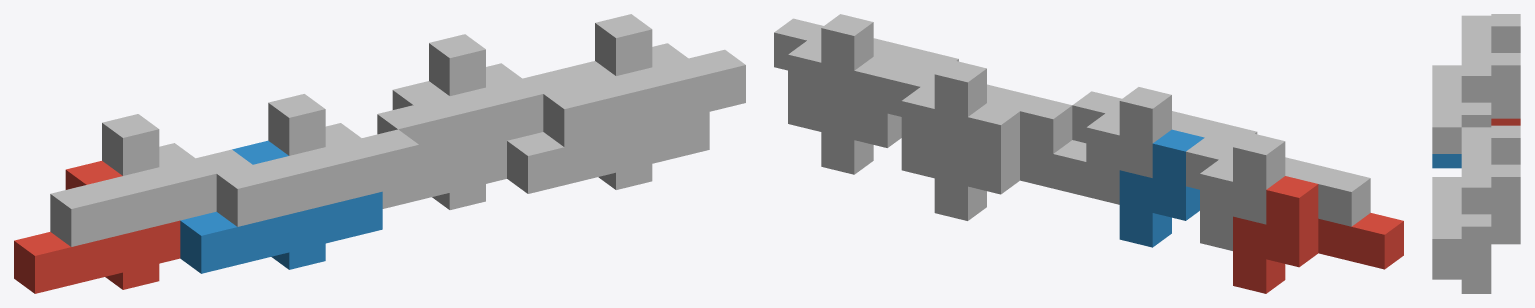
Rendered from tiling.obj.
The picture shows the model from 3 angles, left to right: view 1: azimuth 30°, elevation 25°; view 2: azimuth 150°, elevation 25°; view 3: azimuth 270°, elevation 25°; orthographic projection. The views are drawn at different scales.
Parts seen in each view (by area): view 1: copy_1_domain_4, copy_1_domain_8, copy_1_domain_3, copy_1_domain_7, copy_1_domain_2, copy_1_domain_6, copy_1_domain_1, copy_1_domain_5; view 2: copy_1_domain_7, copy_1_domain_3, copy_1_domain_1, copy_1_domain_5, copy_1_domain_8, copy_1_domain_4, copy_1_domain_2, copy_1_domain_6; view 3: copy_1_domain_8, copy_1_domain_7, copy_1_domain_3, copy_1_domain_4, copy_1_domain_6, copy_1_domain_2, copy_1_domain_5, copy_1_domain_1.
Boxes of the visible parts, box(x1,y1,x2,y2) form: copy_1_domain_4: box(216, 94, 418, 226); copy_1_domain_8: box(543, 14, 745, 147); copy_1_domain_3: box(50, 114, 252, 246); copy_1_domain_7: box(377, 34, 578, 162); copy_1_domain_2: box(180, 140, 382, 273); copy_1_domain_6: box(507, 61, 709, 193); copy_1_domain_1: box(14, 161, 180, 293); copy_1_domain_5: box(382, 81, 506, 209); copy_1_domain_7: box(887, 60, 1072, 178); copy_1_domain_3: box(1186, 133, 1370, 250); copy_1_domain_1: box(1233, 176, 1403, 293); copy_1_domain_5: box(934, 103, 1086, 220); copy_1_domain_8: box(774, 14, 958, 131); copy_1_domain_4: box(1072, 87, 1257, 204); copy_1_domain_2: box(1119, 129, 1204, 247); copy_1_domain_6: box(821, 57, 906, 174); copy_1_domain_8: box(1432, 175, 1491, 279); copy_1_domain_7: box(1461, 125, 1520, 230); copy_1_domain_3: box(1461, 14, 1520, 118); copy_1_domain_4: box(1432, 63, 1491, 153); copy_1_domain_6: box(1432, 265, 1491, 293); copy_1_domain_2: box(1432, 154, 1461, 168); copy_1_domain_5: box(1491, 230, 1520, 244); copy_1_domain_1: box(1491, 118, 1520, 125).
Bounding box in the file's own units: 19 × 4 × 3.
